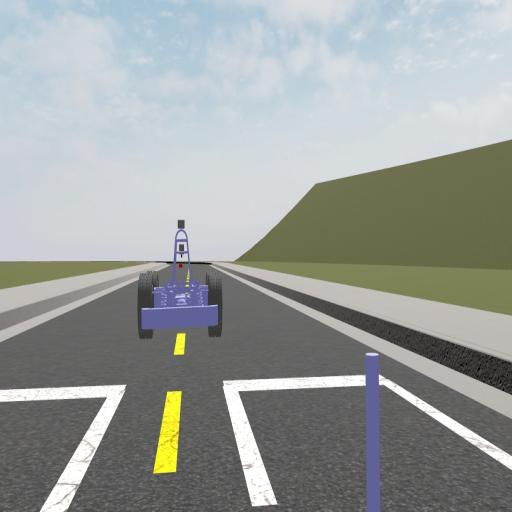ERP-42: (137, 220, 224, 339)
